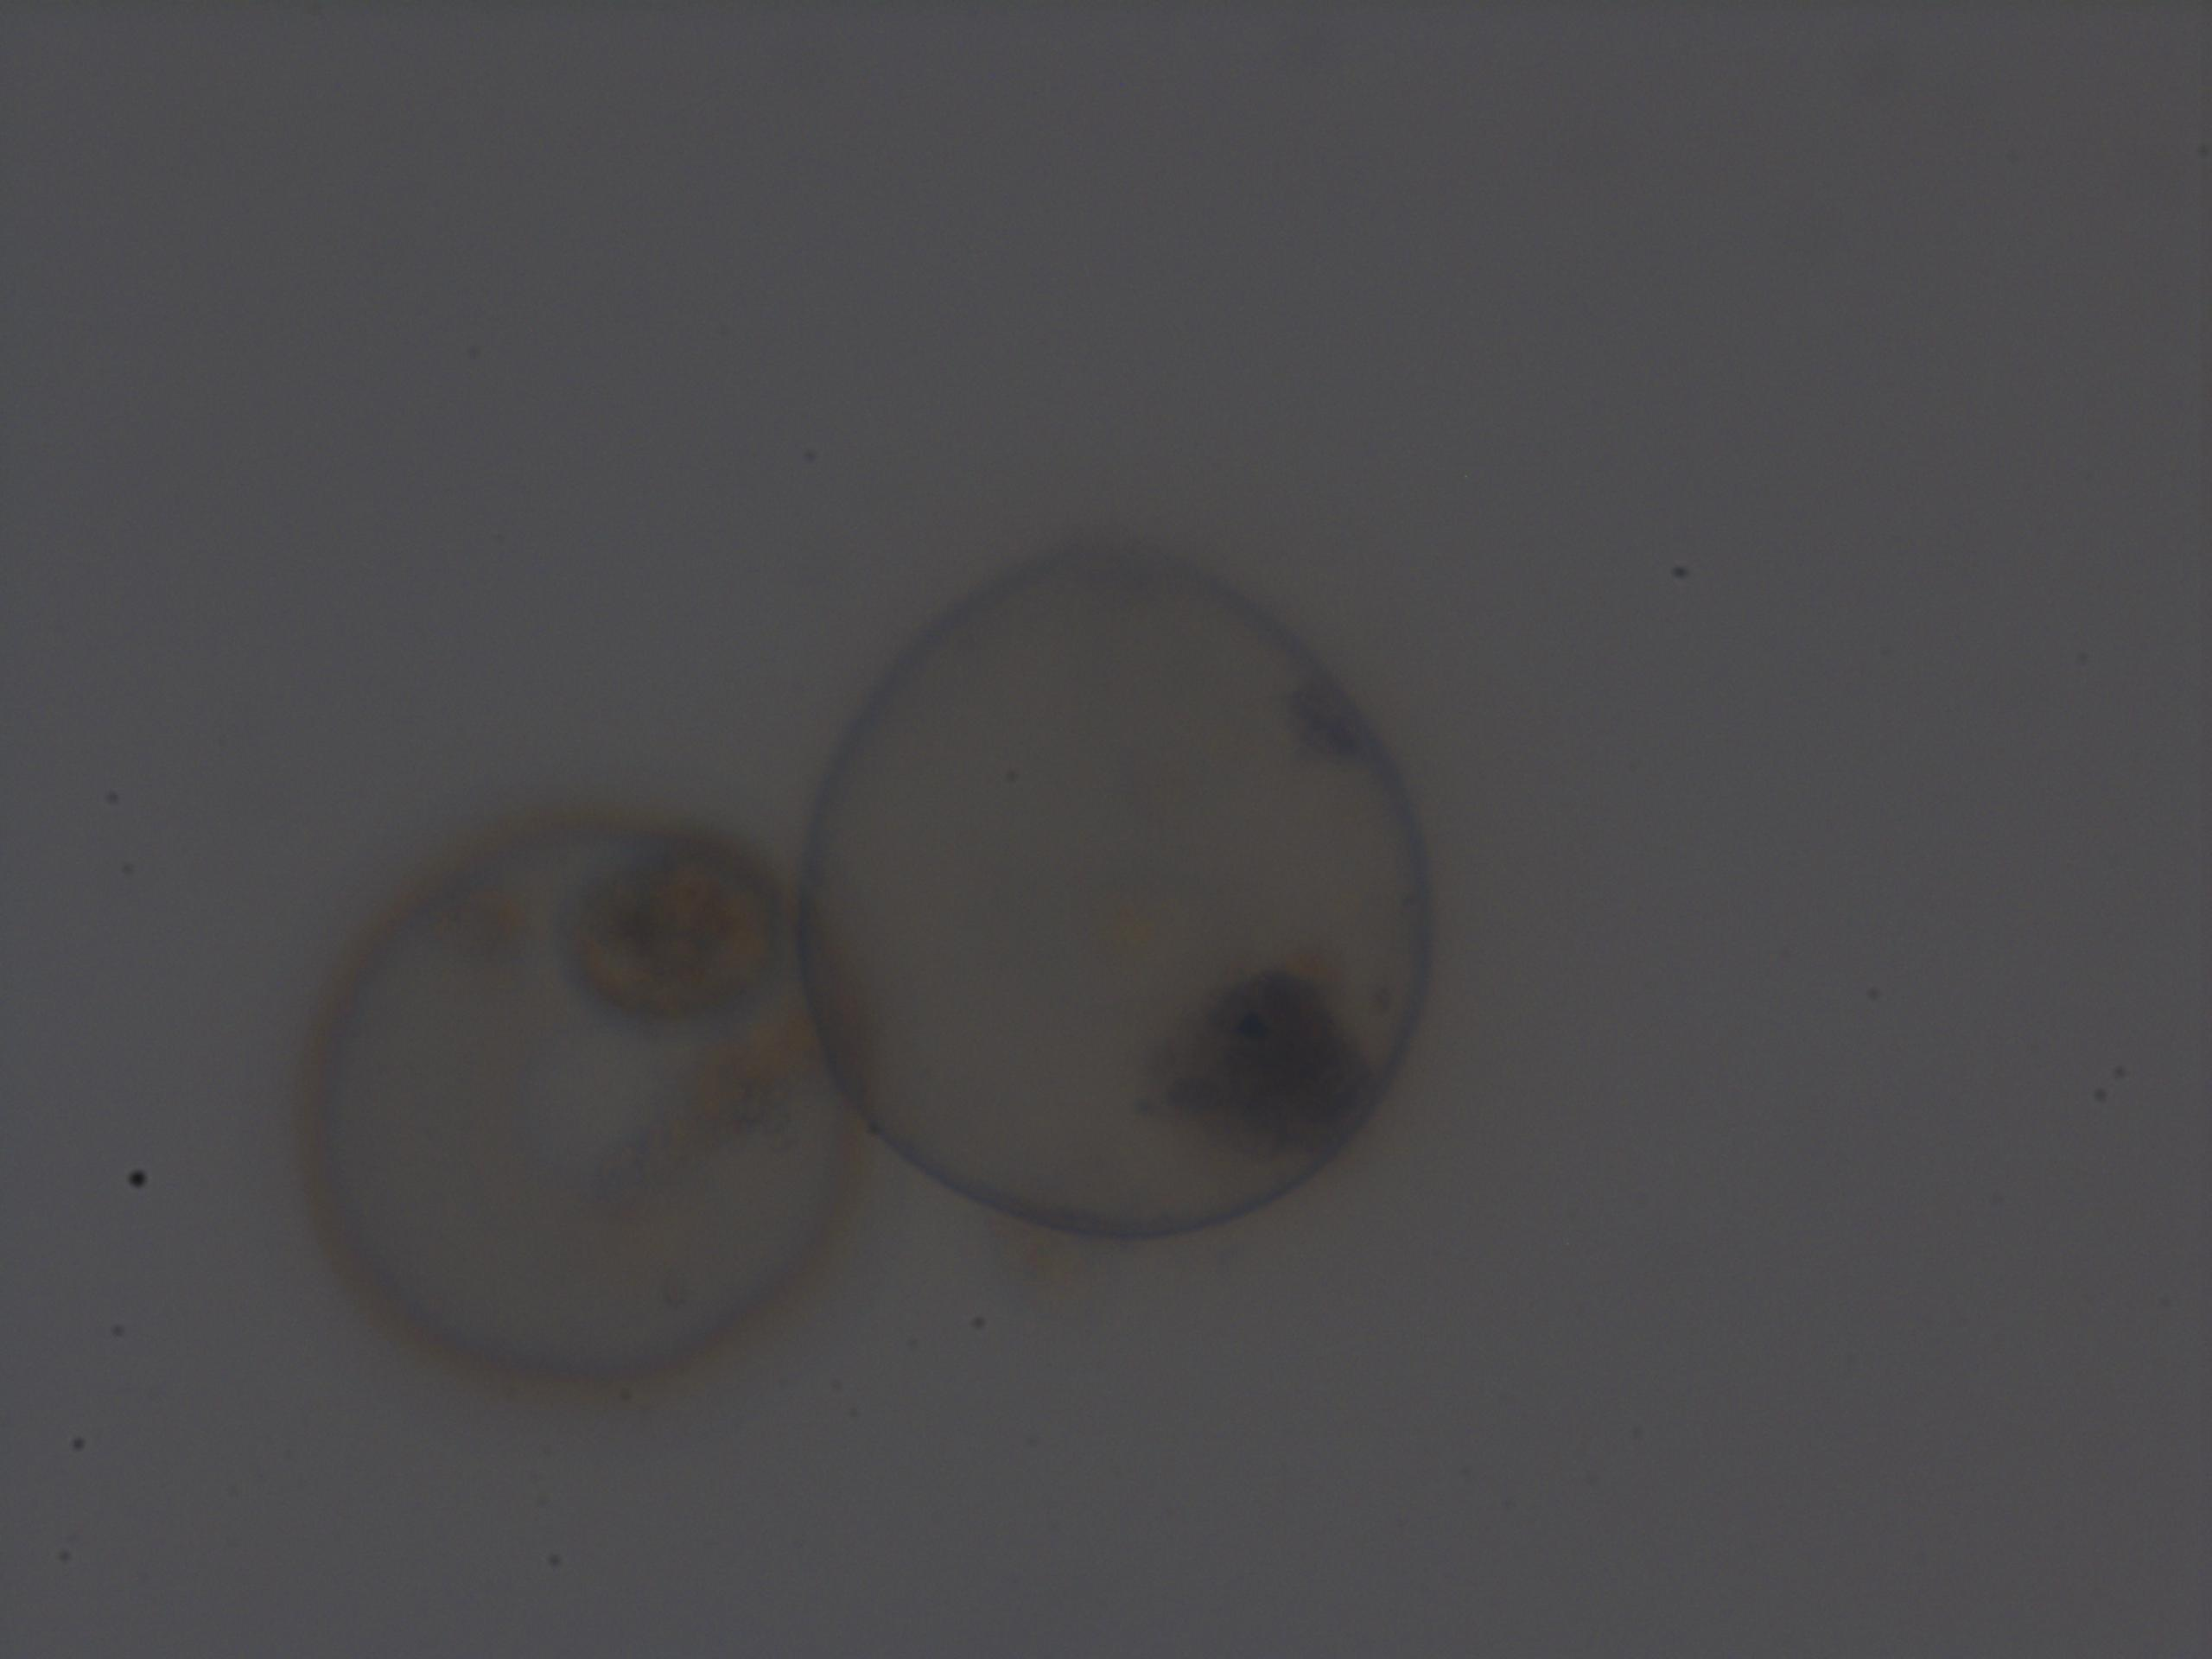protozoa: (254, 769, 874, 1399)
